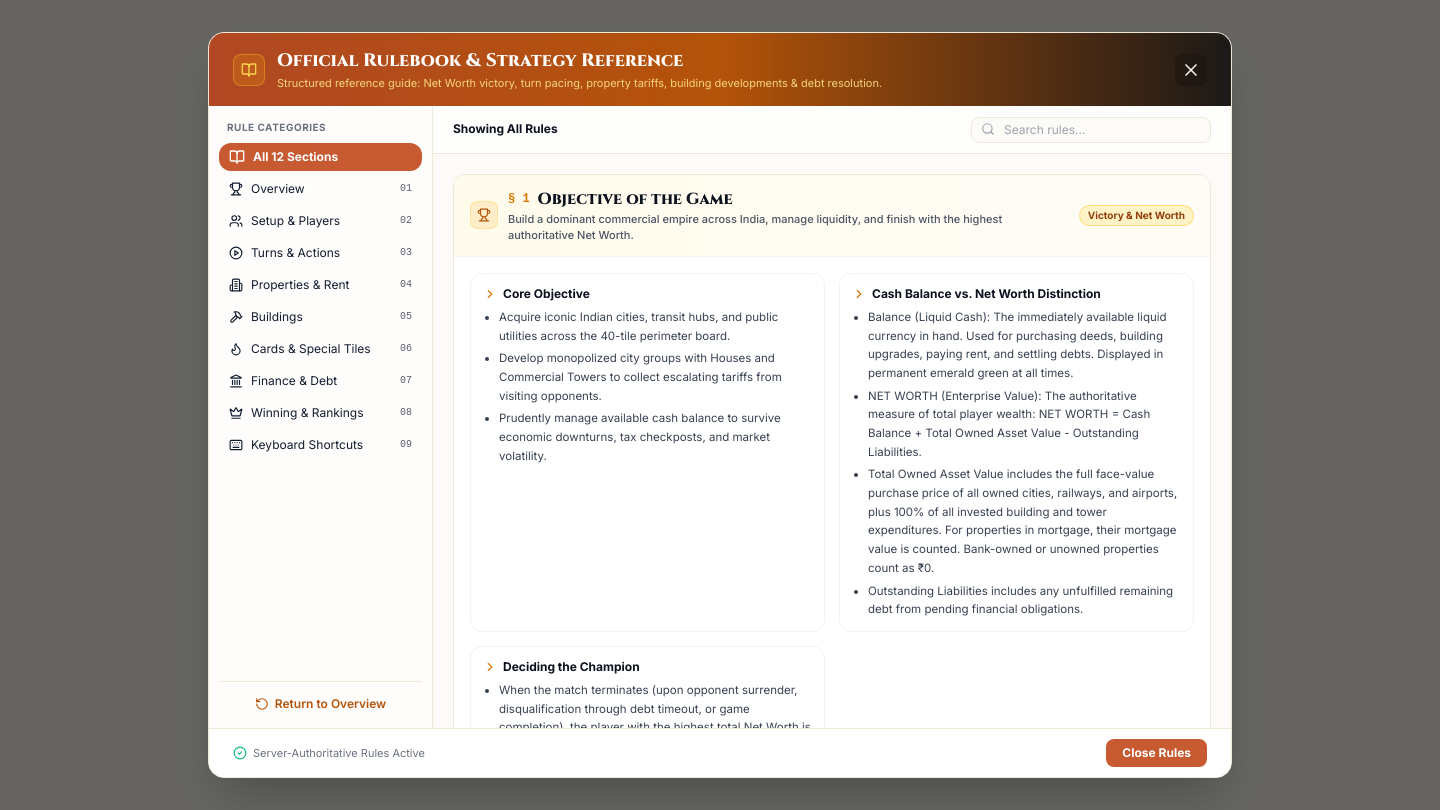
Scenario: 2. Rules Navigation & Structure (Requirement 3) › Return to Overview button navigates back to Overview
This screenshot has width=1440, height=810.
# Navigate to Finance & Debt
Click the button with test id "nav-cat-finance-debt" at [320, 381], box [219, 367, 422, 395]
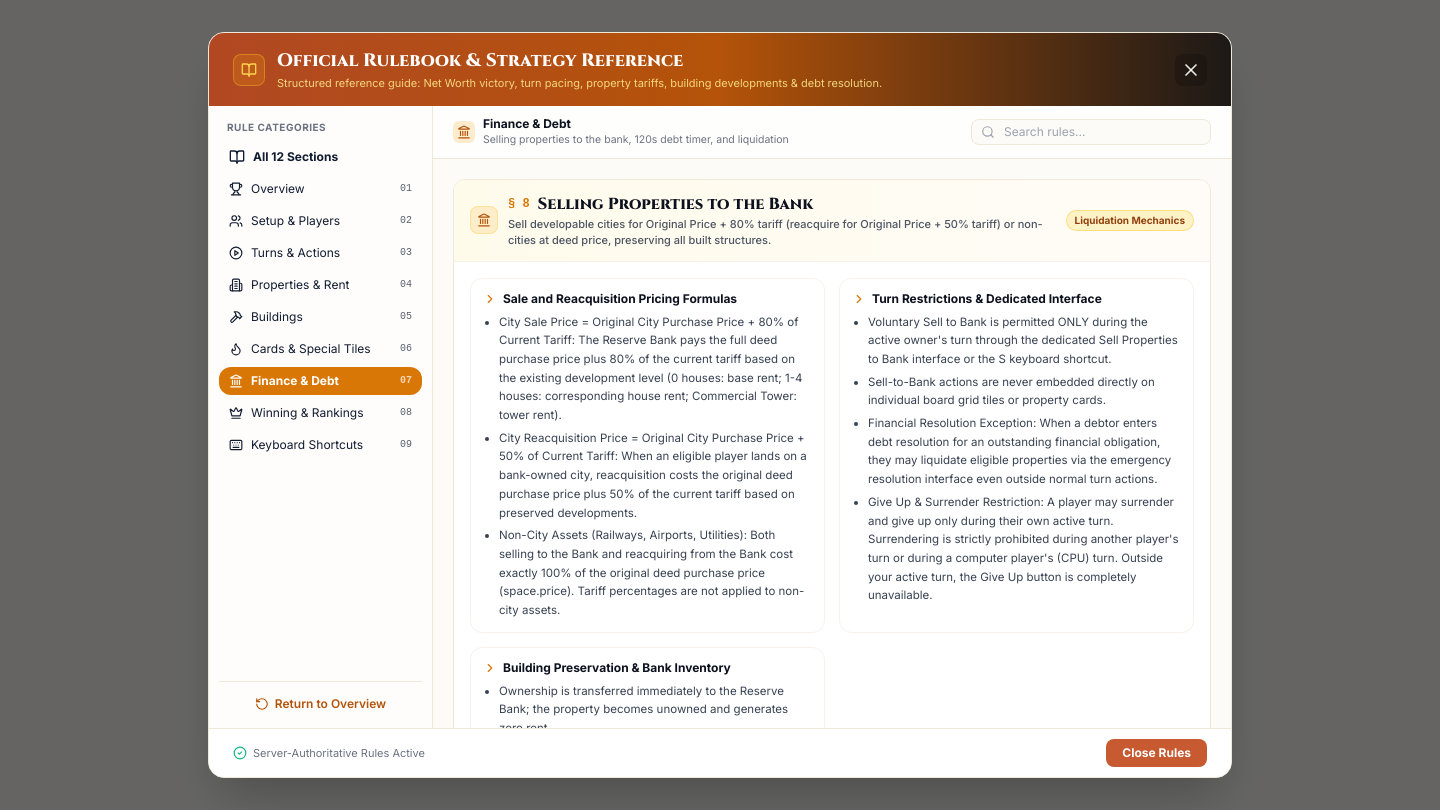
Result: the text "Selling properties to the bank" is shown at [483, 133, 789, 146]
# Click Return to Overview
Click the button with test id "return-to-overview-btn" at [320, 704], box [219, 690, 422, 718]
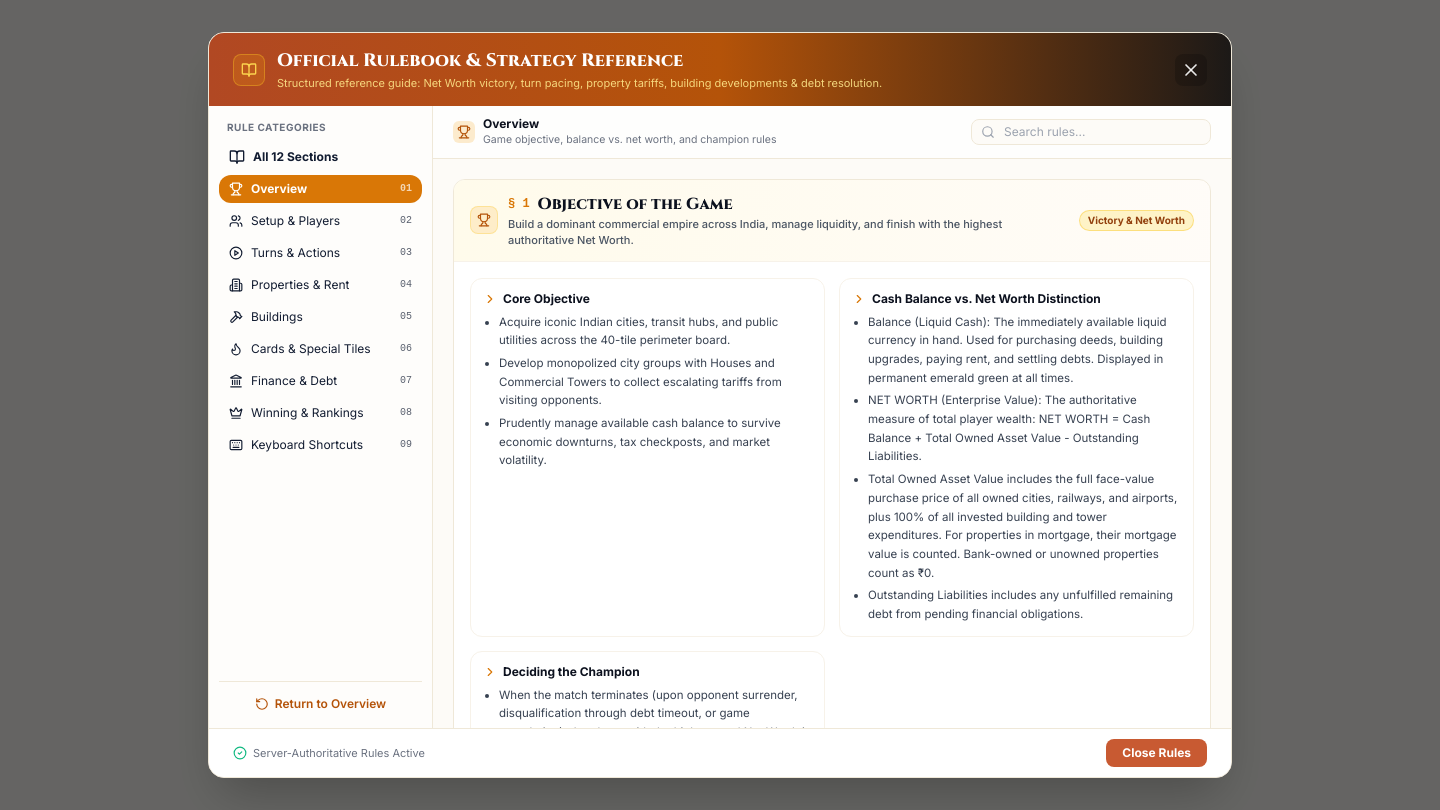
Result: the heading "Objective of the Game" is shown at [538, 192, 733, 216]
